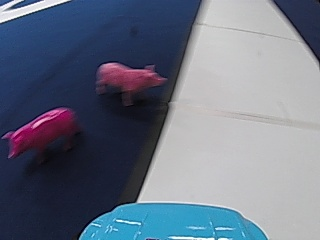pig: (3, 104, 81, 158), (96, 58, 163, 105)
